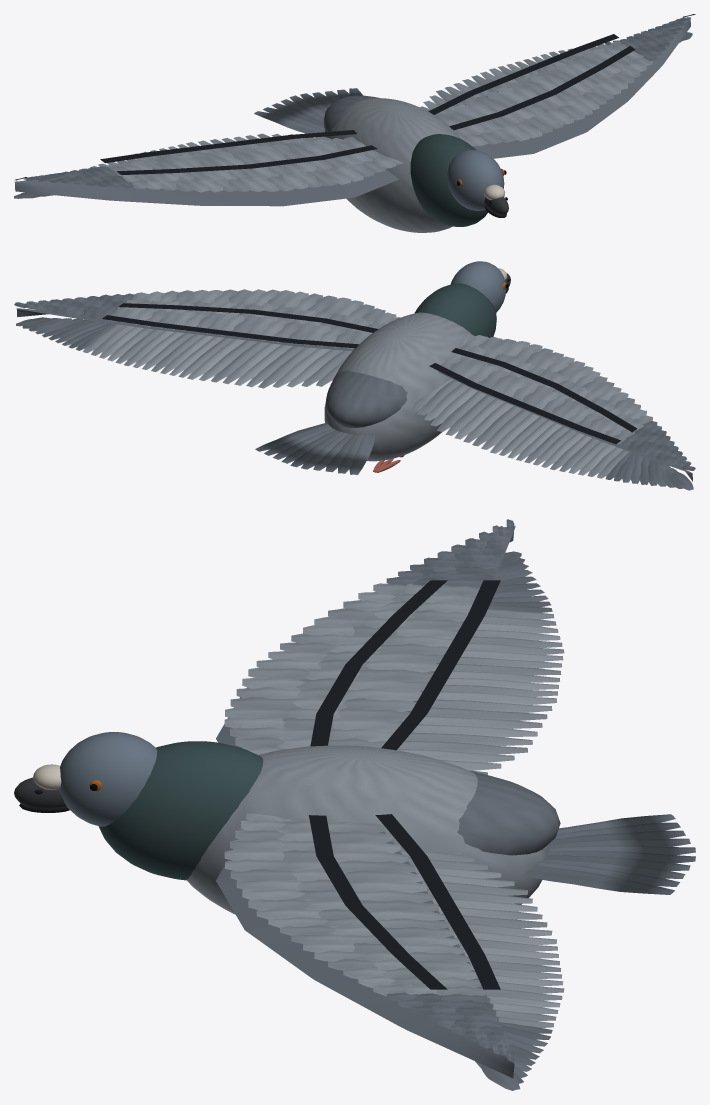
File: v3-rock-pigeon.glb
3 renders of one model, top to bottom at view 1: azimuth 30°, elevation 25°; view 2: azimuth 150°, elevation 25°; view 3: azimuth 270°, elevation 25°, orthographic. The views are drawn at different scales.
Parts seen in each view (by area): view 1: surface-detail (×11), leading-edge-cover (×6), breast, neck, head, mantle; view 2: surface-detail (×11), breast, mantle, neck, head, leading-edge-cover (×3); view 3: surface-detail (×11), breast, neck, leading-edge-cover (×3), head, mantle, upper-bill.
Part boxes in pixels (x1,y1,x2,y2): surface-detail (×11): (14,14,695,198); leading-edge-cover (×6): (14,17,690,206); breast: (324,98,460,232); neck: (410,134,487,226); head: (447,150,504,210); mantle: (323,95,380,131); surface-detail (×11): (14,289,695,490); breast: (324,312,471,461); mantle: (325,370,407,428); neck: (414,283,496,337); head: (450,261,506,312); leading-edge-cover (×3): (16,308,354,351); surface-detail (×11): (224,519,695,1090); breast: (187,745,548,914); neck: (98,741,263,880); leading-edge-cover (×3): (216,831,514,1078); head: (60,732,157,826); mantle: (457,771,560,855); upper-bill: (14,777,66,807).
Bounding box in the file's own units: 0.62 × 0.1067 × 0.33.
